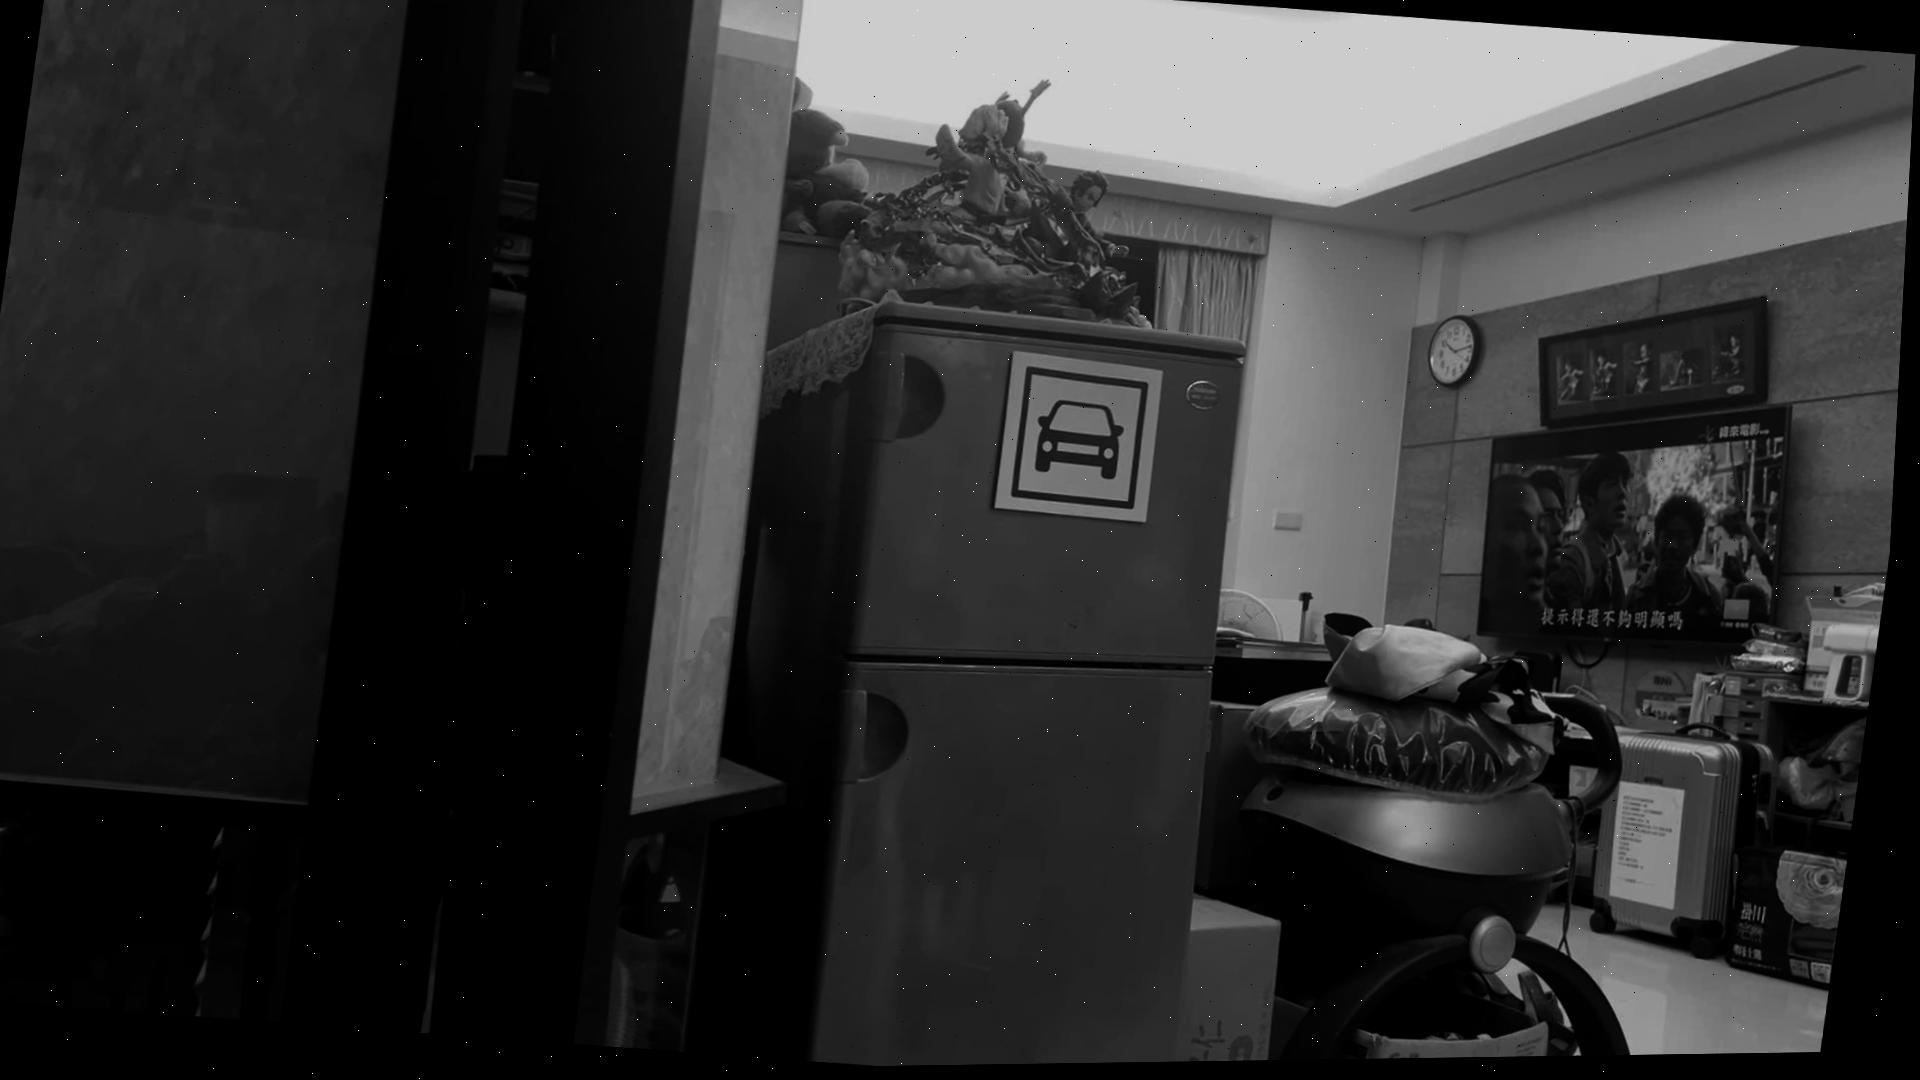car_img: (1010, 365, 1159, 516)
